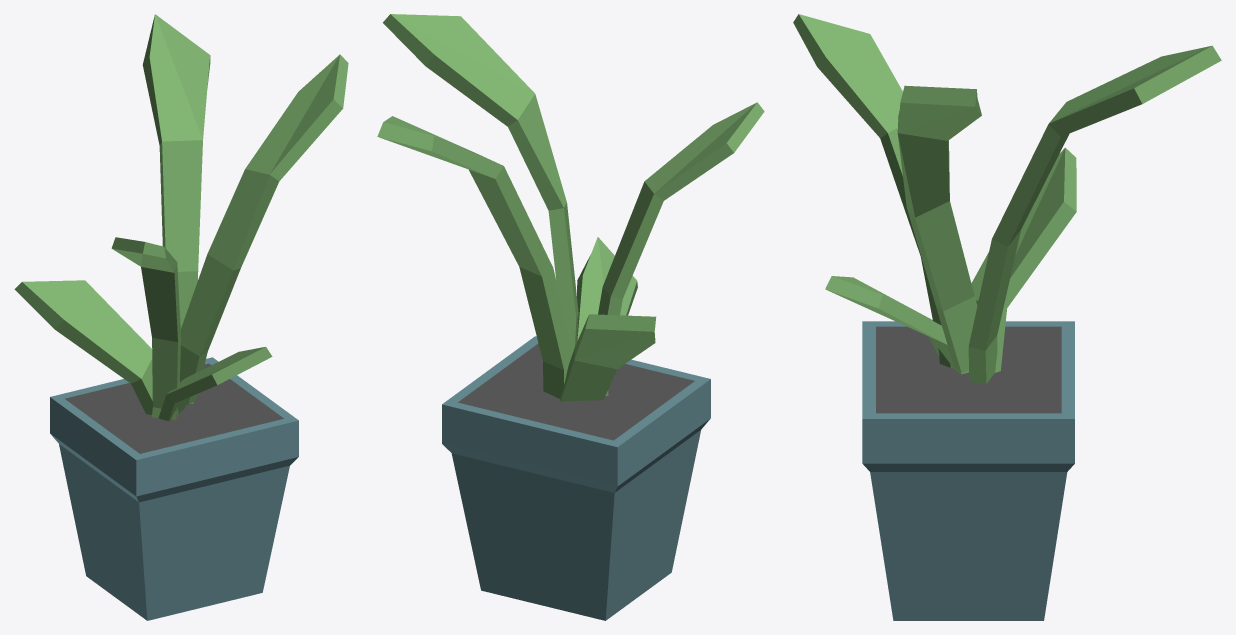
Rendered from SM_Flower_01.fbx.
3 renders of one model, left to right at view 1: azimuth 30°, elevation 25°; view 2: azimuth 150°, elevation 25°; view 3: azimuth 270°, elevation 25°, orthographic. The views are drawn at different scales.
Parts seen in each view (by area): view 1: SM_Flower_01; view 2: SM_Flower_01; view 3: SM_Flower_01.
Boxes of the visible parts, x1=… form: SM_Flower_01: x1=14, y1=14, x2=348, y2=620; SM_Flower_01: x1=377, y1=14, x2=764, y2=620; SM_Flower_01: x1=793, y1=14, x2=1221, y2=620.
Bounding box in the file's own units: 44 × 69.84 × 45.32.
